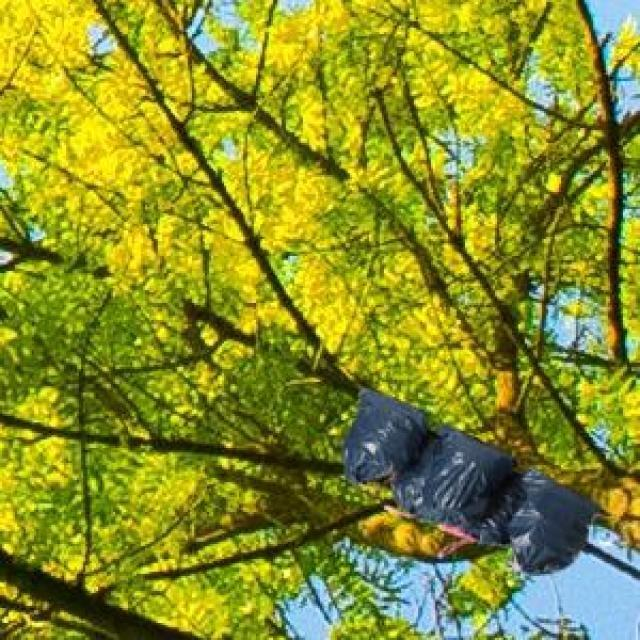miscellaneous trash: (339, 384, 605, 570)
